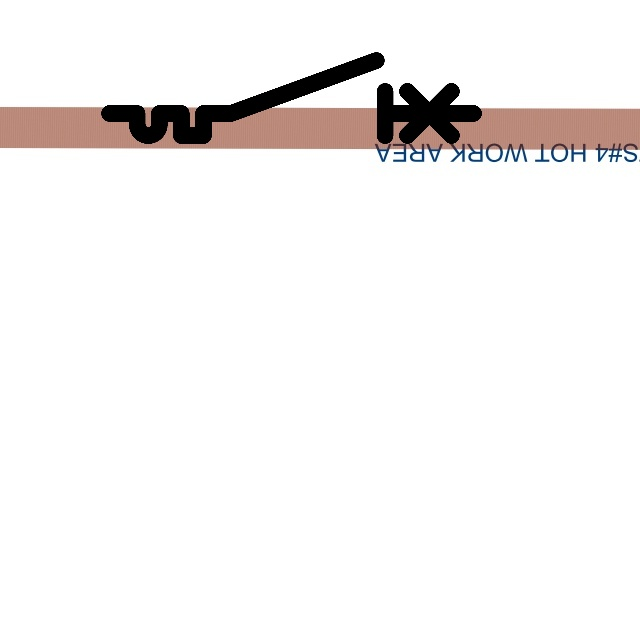interruptor_termomagnetico: (100, 51, 483, 145)
